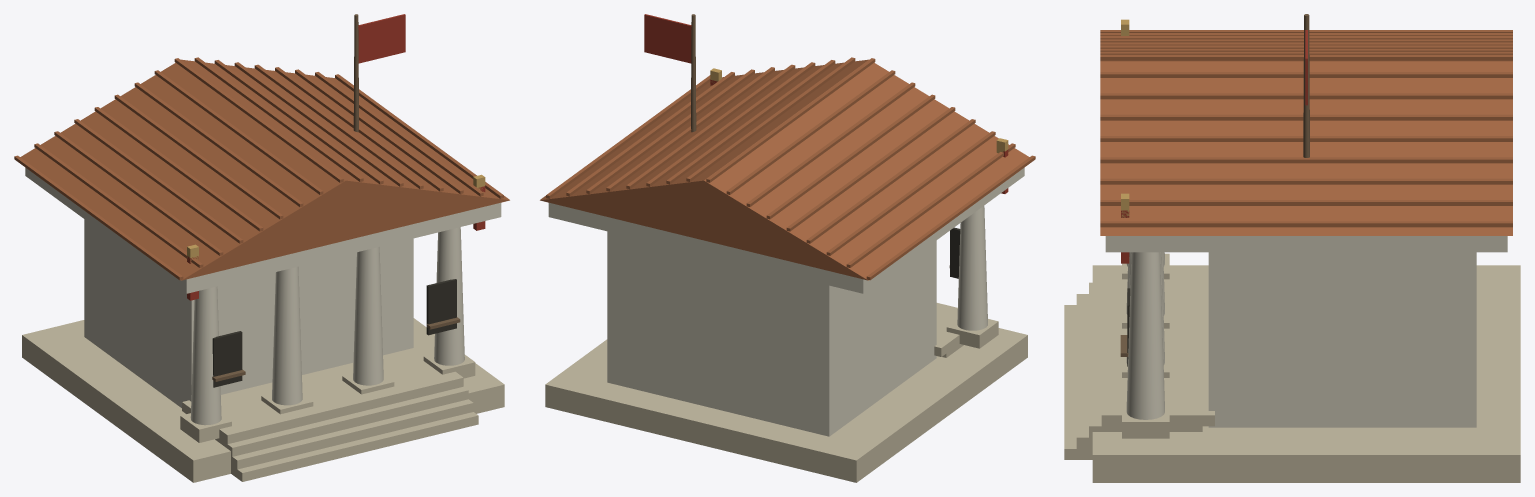
File: b-academy-roman.glb
3 views of the same model, side by side, from view 1: azimuth 30°, elevation 25°; view 2: azimuth 150°, elevation 25°; view 3: azimuth 270°, elevation 25° (orthographic). The views are drawn at different scales.
Visible parts, largest first — view 1: Structure; view 2: Structure; view 3: Structure.
Boxes of the visible parts, x1,y1,x2,y2 form: Structure: [14, 14, 509, 482]; Structure: [540, 14, 1035, 482]; Structure: [1064, 14, 1520, 482].
Bounding box in the file's own units: 4.62 × 4.6 × 4.42.
